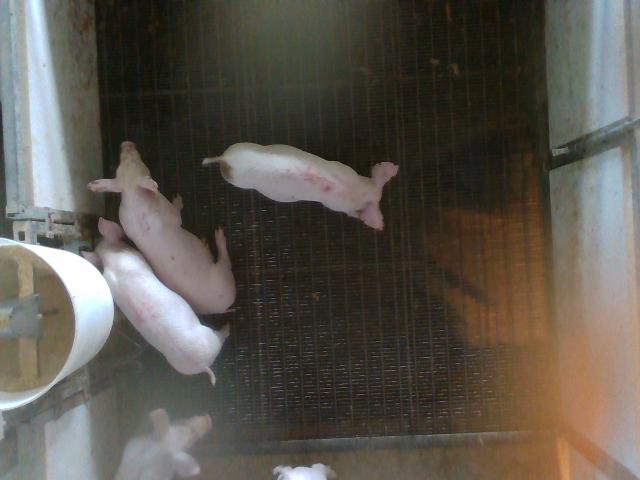pig-4: (82, 219, 229, 383)
pig-5: (202, 142, 399, 229)
